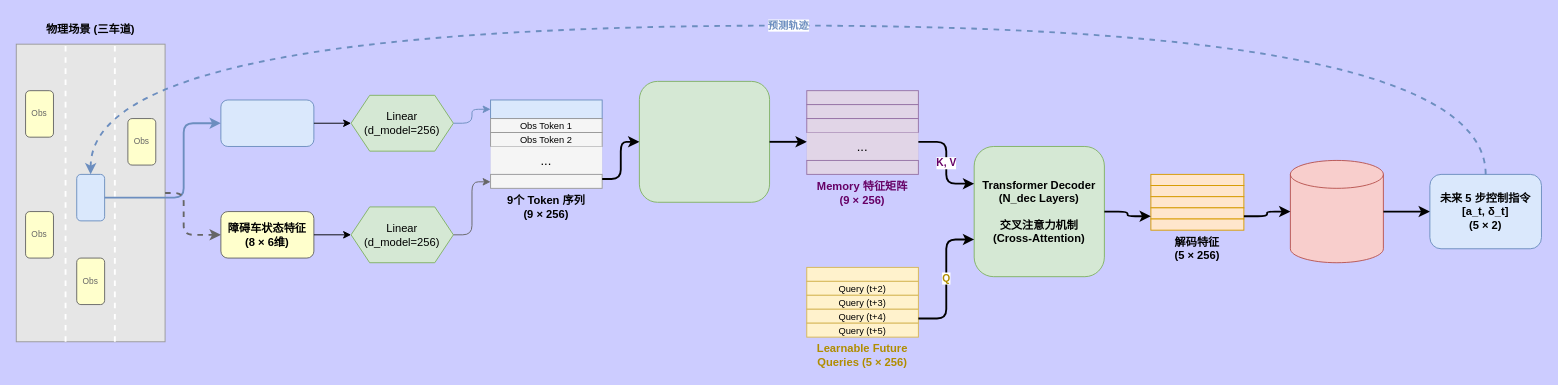
Image size: 1558x385. Some labels were removed from this diagram. The centre of each missing label's shape, as x and y in pixels:
Ego: the point at 90,197
Ego Token (1×256): the point at 546,109
Obs Token 8: the point at 546,180
Prediction Head MLP + Tanh: the point at 1336,211
Query (t+1): the point at 862,273
Transformer Encoder (N_enc Layers) 多头自注意力机制 (Self-Attention): the point at 704,141
主车状态特征 (1 × 6维): the point at 267,122
